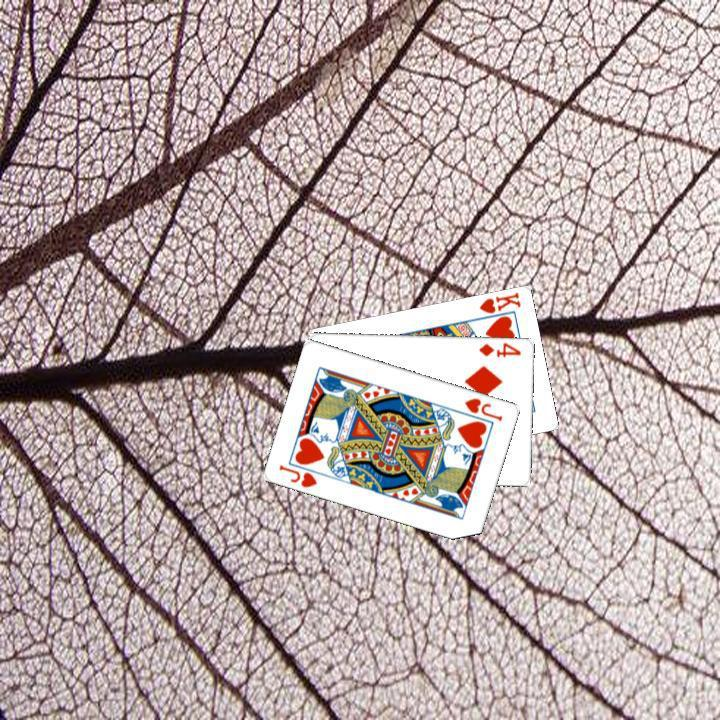4: (475, 338, 523, 359)
J: (460, 393, 505, 423), (275, 460, 319, 489)
K: (475, 287, 523, 315)
